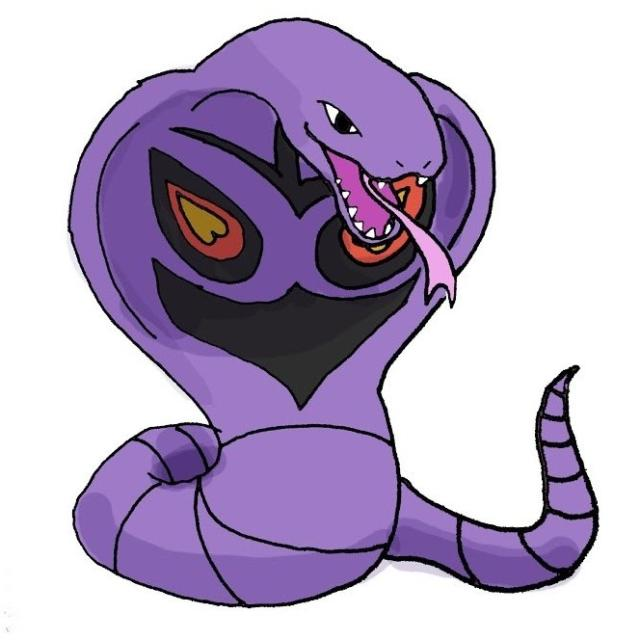Arbok: (134, 58, 492, 550)
